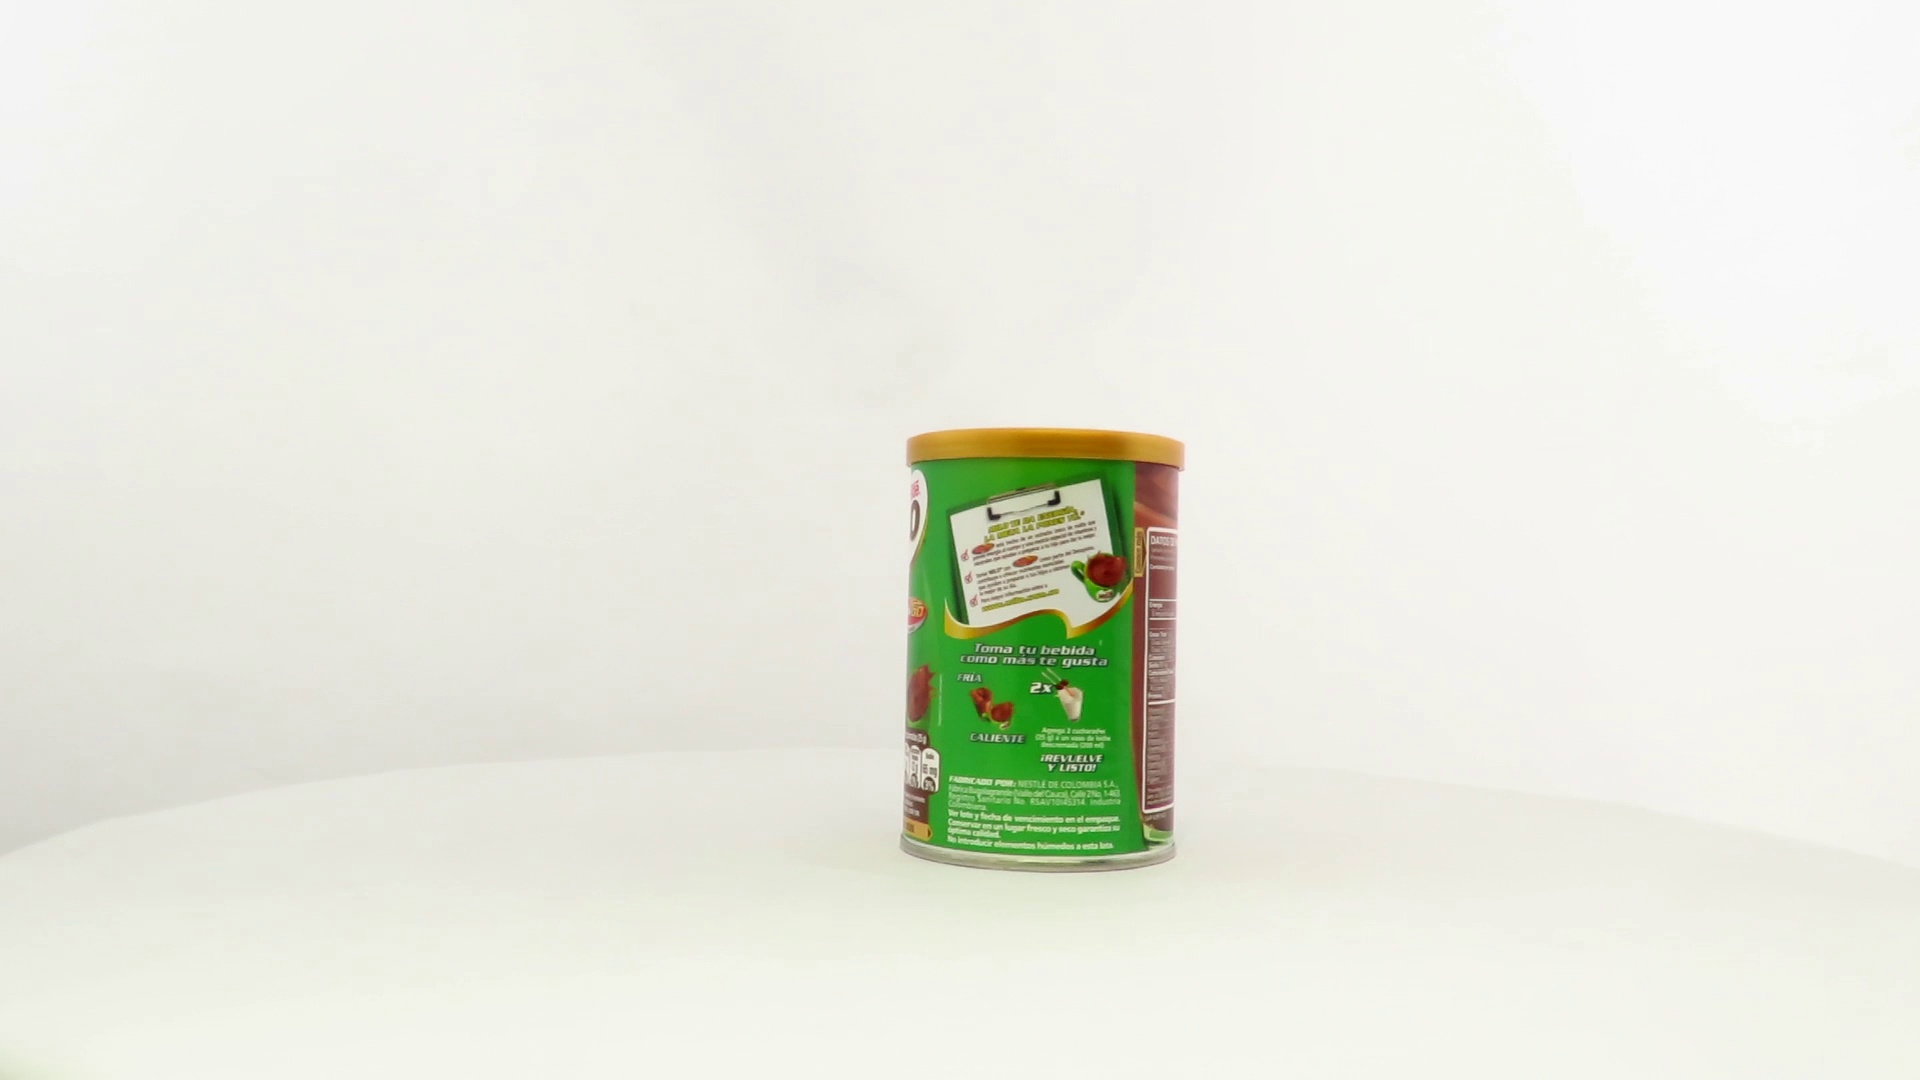COL0170203LAT20000: (894, 422, 1191, 880)
